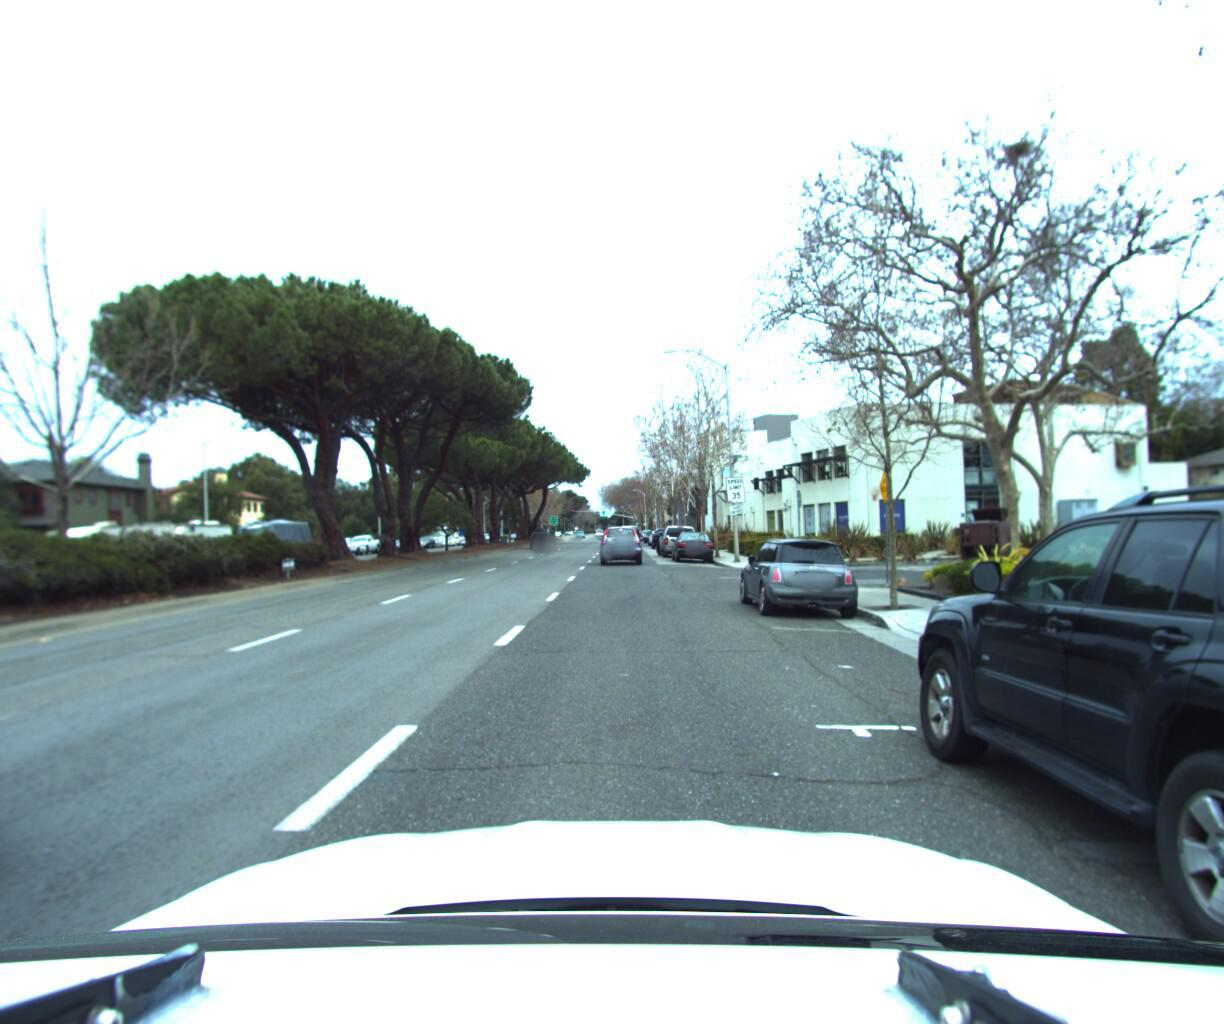car: (867, 398, 1224, 1024), (731, 526, 864, 616), (596, 520, 645, 563), (653, 518, 703, 556), (668, 525, 715, 561), (322, 534, 364, 557), (344, 532, 384, 554), (525, 525, 556, 548), (649, 522, 674, 546)
other_vehicle: (28, 515, 191, 590), (138, 515, 252, 575), (235, 515, 317, 566)
